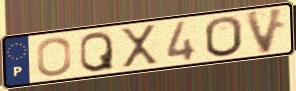4: (165, 19, 199, 63)
O: (203, 15, 245, 59), (35, 36, 73, 78)
Q: (78, 29, 116, 74)
V: (242, 6, 288, 57)
X: (118, 22, 161, 70)
